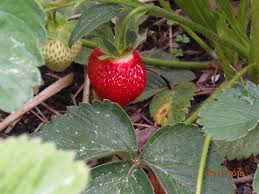peduncle: (115, 6, 145, 56)
strawberry: (87, 49, 145, 104)
